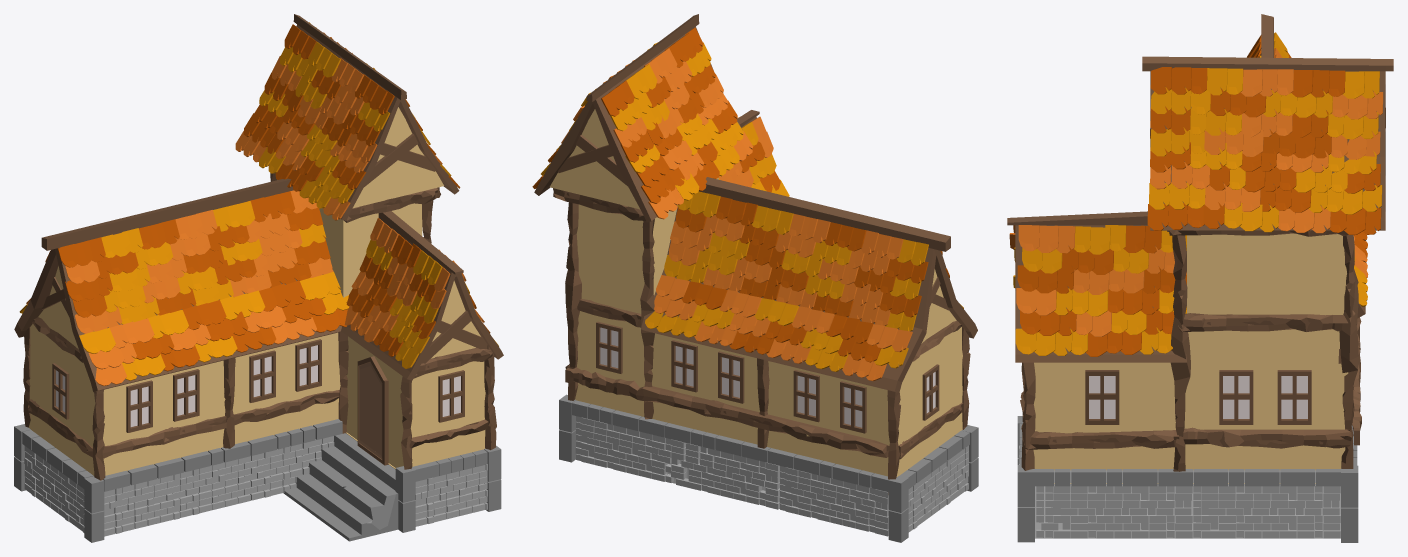
3 renders of one model, left to right at view 1: azimuth 30°, elevation 25°; view 2: azimuth 150°, elevation 25°; view 3: azimuth 270°, elevation 25°, orthographic. The views are drawn at different scales.
Parts seen in each view (by area): view 1: Plane.056; view 2: Plane.056; view 3: Plane.056.
Part boxes in pixels (x1,y1,x2,y2): Plane.056: [14, 14, 503, 542]; Plane.056: [532, 14, 978, 542]; Plane.056: [1007, 14, 1393, 542].
Bounding box in the file's own units: 18.74 × 18.87 × 14.4.
